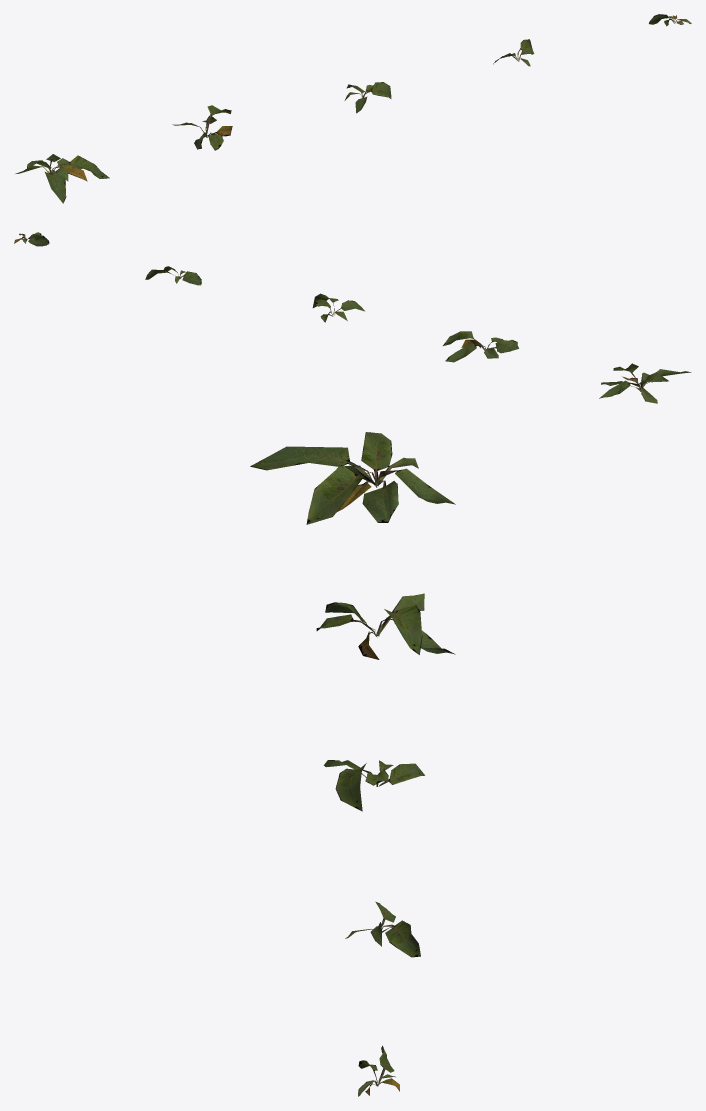
File: weeds_lo.glb
3 renders of one model, top to bottom at view 1: azimuth 30°, elevation 25°; view 2: azimuth 150°, elevation 25°; view 3: azimuth 270°, elevation 25°, orthographic. The views are drawn at different scales.
Parts seen in each view (by area): view 1: weed_plant_02_a_LOD0, weed_plant_02_b_LOD0, weed_plant_02_c_LOD0, weed_plant_02_d_LOD0; view 2: weed_plant_02_b_LOD0, weed_plant_02_a_LOD0, weed_plant_02_c_LOD0, weed_plant_02_d_LOD0, weed_plant_02_e_LOD0; view 3: weed_plant_02_a_LOD0, weed_plant_02_b_LOD0, weed_plant_02_c_LOD0, weed_plant_02_d_LOD0.
Boxes of the visible parts, x1,y1,x2,y2 form: weed_plant_02_a_LOD0: (15,154,109,203); weed_plant_02_b_LOD0: (172,105,232,150); weed_plant_02_c_LOD0: (344,82,391,113); weed_plant_02_d_LOD0: (493,39,534,66); weed_plant_02_b_LOD0: (443,331,518,362); weed_plant_02_a_LOD0: (599,363,691,403); weed_plant_02_c_LOD0: (312,293,364,322); weed_plant_02_d_LOD0: (145,266,201,285); weed_plant_02_e_LOD0: (14,232,49,246); weed_plant_02_a_LOD0: (250,432,455,524); weed_plant_02_b_LOD0: (316,593,455,659); weed_plant_02_c_LOD0: (324,760,424,811); weed_plant_02_d_LOD0: (345,901,420,957).
Size of the model in its own units: 2.13 by 0.0744 by 0.2909.
Materials: 1 (1 with a texture image).
